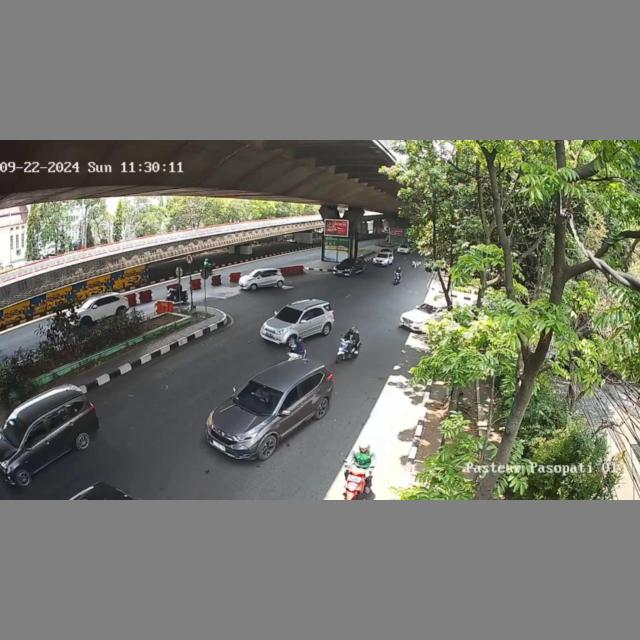windshield: (232, 379, 283, 416), (2, 417, 30, 444), (275, 307, 302, 323)
